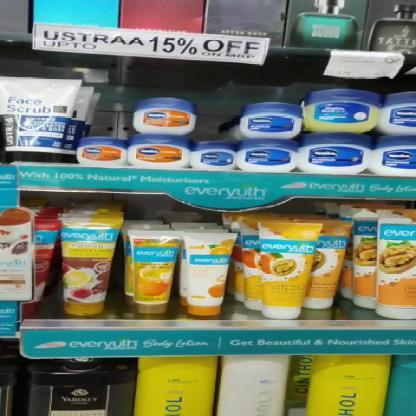EY ADVANCED GOLDEN GLOW PEEL OFF M- 90G: (136, 232, 172, 310)
EY EXF WALNUT SCRUB AYR 200G: (374, 220, 414, 322), (353, 222, 384, 304)
EY HYD-EXF WALNT APR SCRUB AYR100G: (249, 216, 296, 314)
EY NAT GLOW ORANGE PEEL OFF AY 90G: (184, 232, 233, 316)
